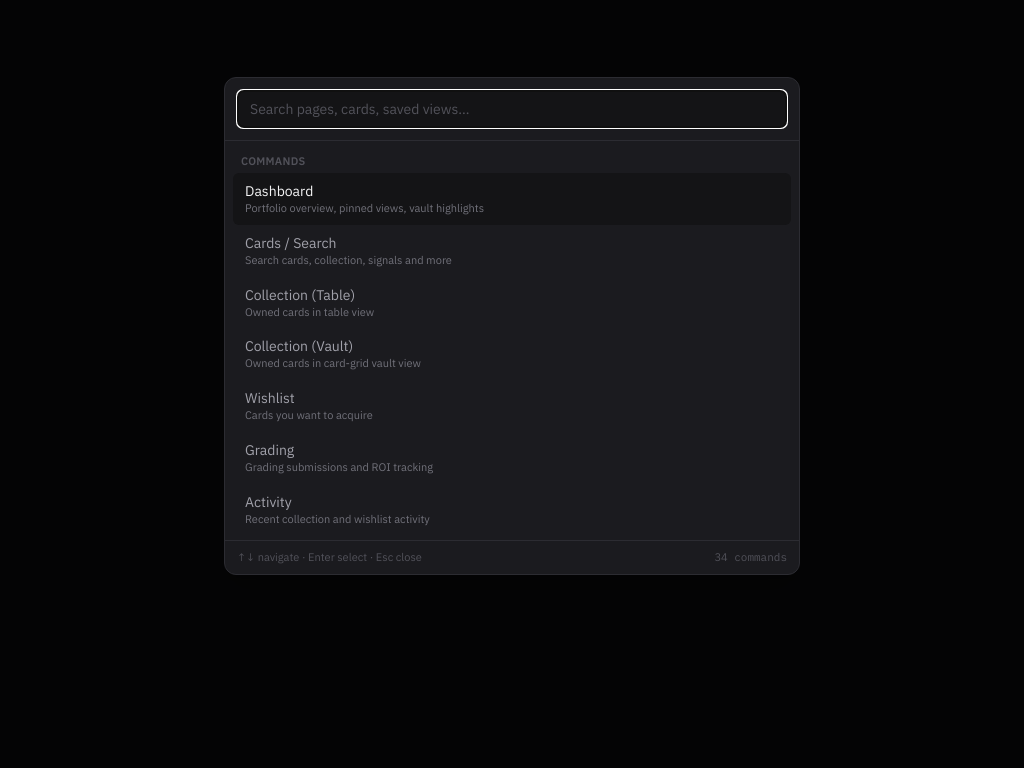
Test: CommandPalette › filters commands as the user types
In the field with placeholder "Search pages, cards, saved views…": (512, 109) [237,90,787,128], type "wishlist"
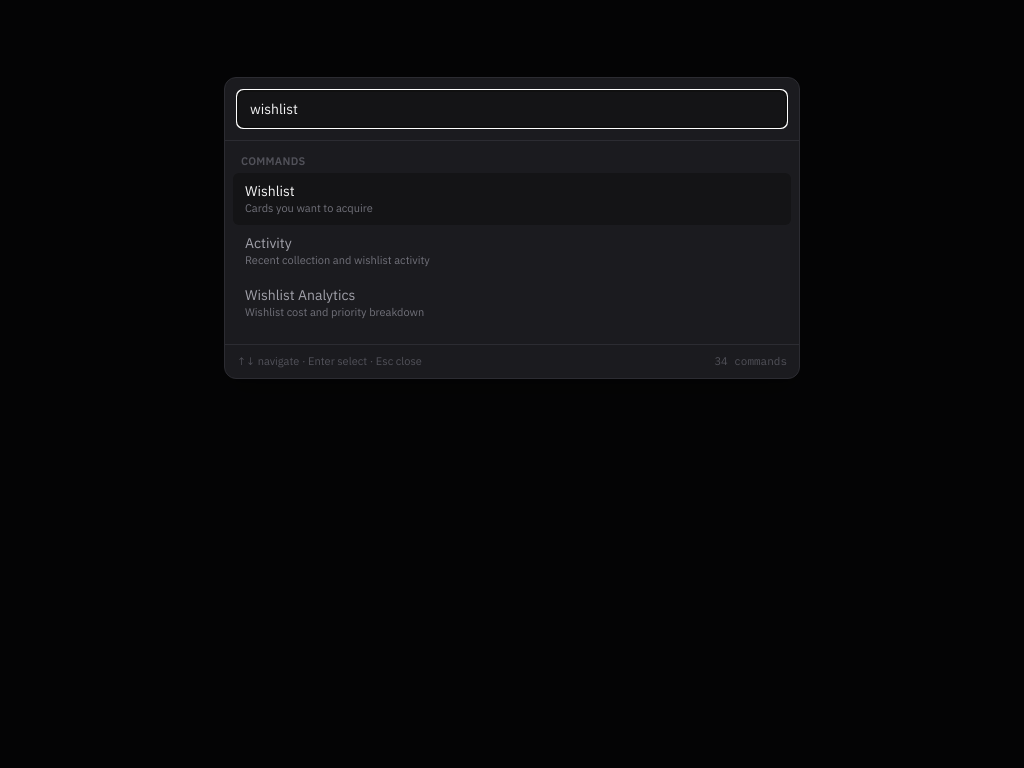
Expected: the text "Wishlist" is shown, [245,182,295,200]
Now the button "Dashboard" is gone
